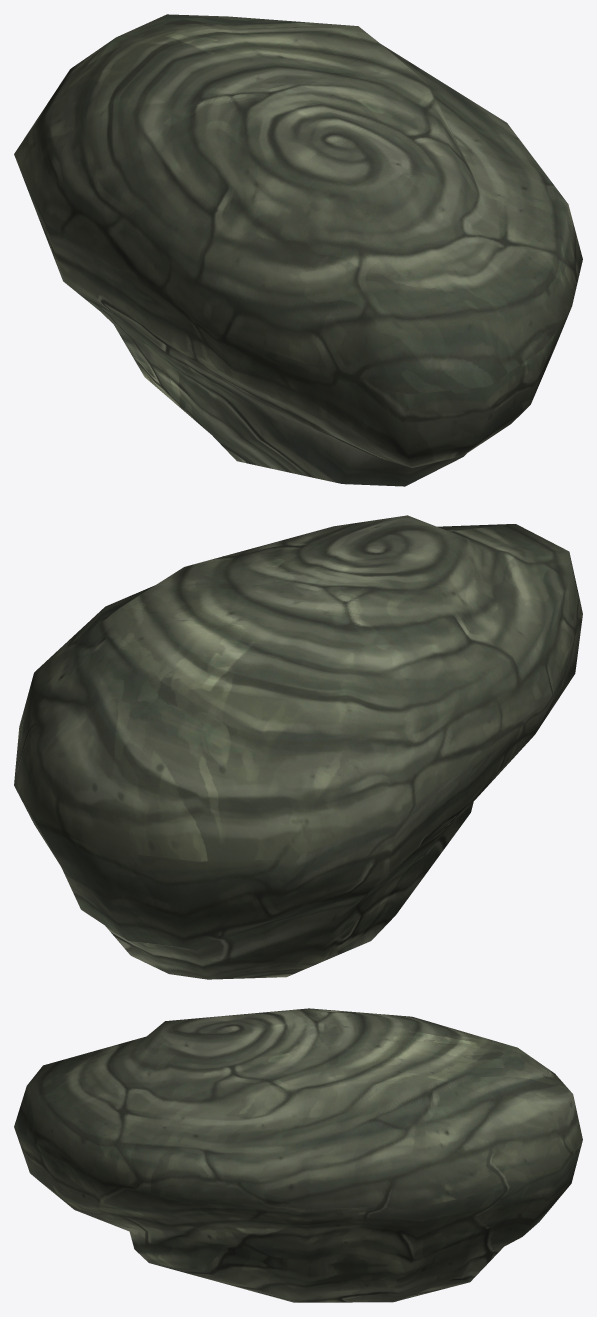
The model's file is Bigrock.FBX.
3 views of the same model, one above another, from view 1: azimuth 30°, elevation 25°; view 2: azimuth 150°, elevation 25°; view 3: azimuth 270°, elevation 25° (orthographic). The views are drawn at different scales.
Visible parts, largest first — view 1: Box001; view 2: Box001; view 3: Box001.
Boxes of the visible parts, x1,y1,x2,y2 form: Box001: (14, 14, 582, 486); Box001: (14, 515, 582, 979); Box001: (14, 1008, 582, 1302).
Size of the model in its own units: 207 by 184 by 362.
